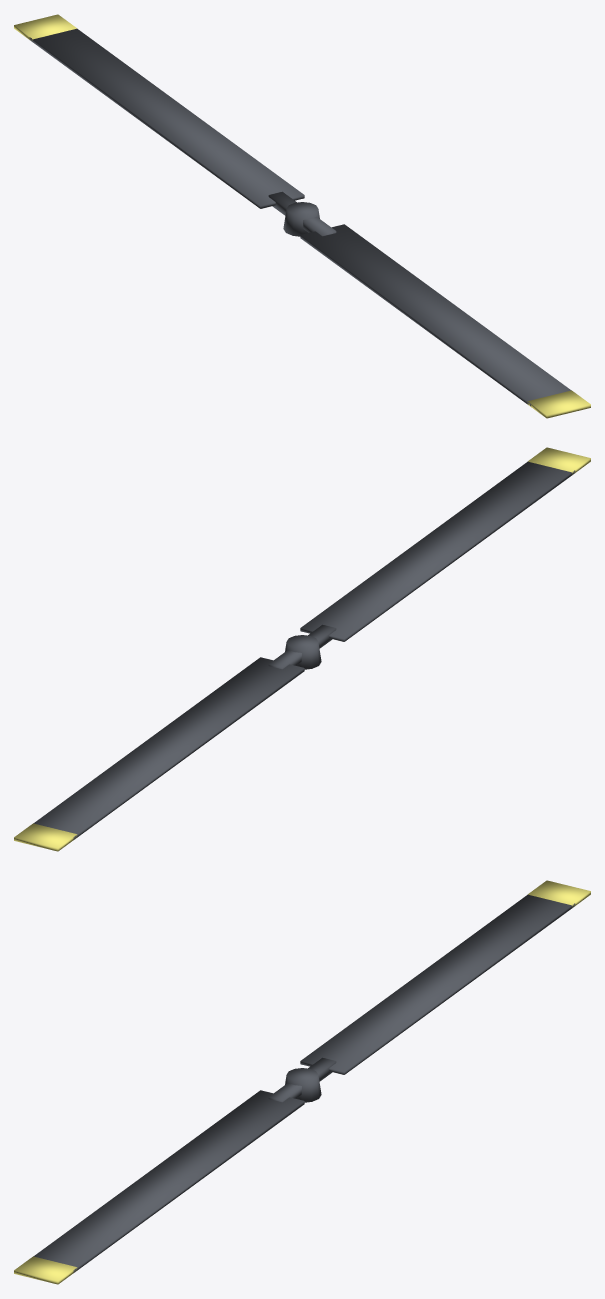
File: SM_AH1G_MainRotor.fbx
3 renders of one model, top to bottom at view 1: azimuth 30°, elevation 25°; view 2: azimuth 150°, elevation 25°; view 3: azimuth 330°, elevation 25°, orthographic.
Visible parts, largest first — view 1: SM_AH1G_MainRotor; view 2: SM_AH1G_MainRotor; view 3: SM_AH1G_MainRotor.
Boxes of the visible parts, box(x1,y1,x2,y2) form: SM_AH1G_MainRotor: box(14, 14, 590, 418); SM_AH1G_MainRotor: box(14, 447, 590, 851); SM_AH1G_MainRotor: box(14, 880, 590, 1284).
Size of the model in its own units: 0.64 by 13.38 by 0.28.
